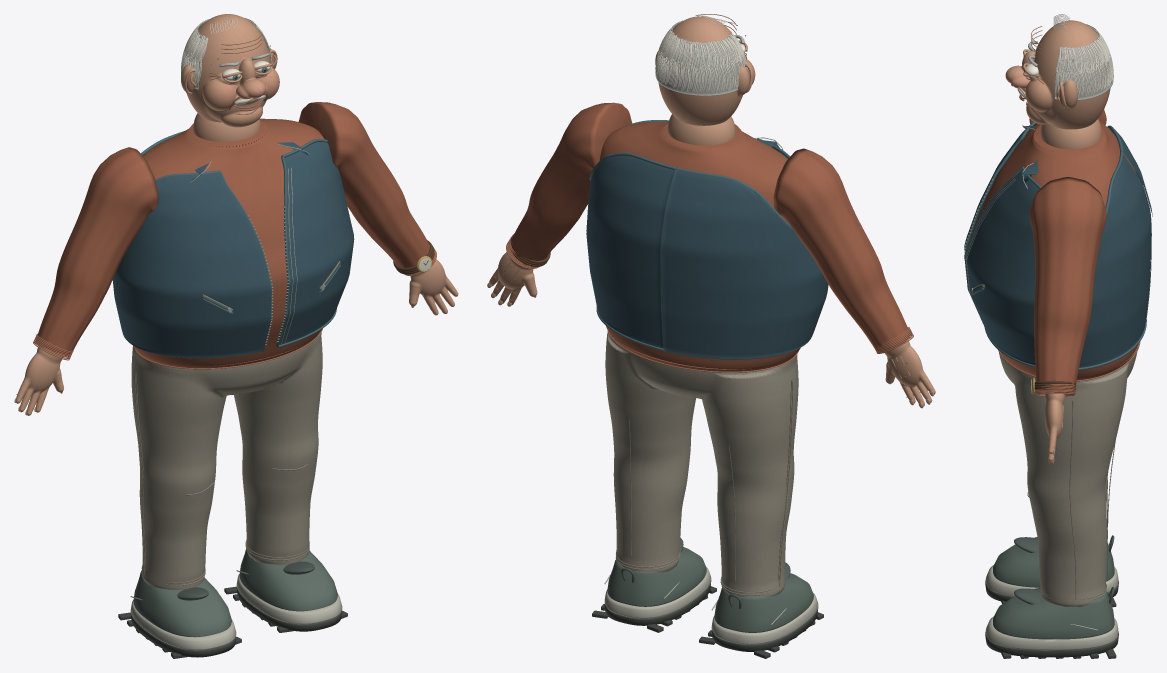
3 views of the same model, side by side, from view 1: azimuth 30°, elevation 25°; view 2: azimuth 150°, elevation 25°; view 3: azimuth 270°, elevation 25° (orthographic).
Parts seen in each view (by area): view 1: 04 | Vest | firm slate blue cotton details, Stone trousers | coherent seat and separate legs, 03 | Sweater | brushed rust wool details, 06 | Walking shoes | olive suede details, Otto | integrated face and bald scalp, 06 | Walking shoes | warm grey midsole details, 06 | Walking shoes | dark outsole details, Sculpted hand R, 04 | Vest | bound blue edges details, 01 | Skin | warm aged complexion details, Sculpted hand L, 02 | Hair | warm silver white details (+4 smaller); view 2: 04 | Vest | firm slate blue cotton details, Stone trousers | coherent seat and separate legs, 03 | Sweater | brushed rust wool details, 06 | Walking shoes | olive suede details, 02 | Hair | warm silver white details, Otto | integrated face and bald scalp, 06 | Walking shoes | warm grey midsole details, 02 | Hair | underlayer details, 06 | Walking shoes | dark outsole details, Sculpted hand R, 01 | Skin | warm aged complexion details, Sculpted hand L (+4 smaller); view 3: 04 | Vest | firm slate blue cotton details, 03 | Sweater | brushed rust wool details, Stone trousers | coherent seat and separate legs, 06 | Walking shoes | olive suede details, Otto | integrated face and bald scalp, 02 | Hair | warm silver white details, 06 | Walking shoes | warm grey midsole details, 04 | Vest | bound blue edges details, 06 | Walking shoes | dark outsole details, 01 | Skin | warm aged complexion details, 02 | Hair | underlayer details, Sculpted hand L (+6 smaller).
Boxes of the visible parts, bbox=[...] form: 04 | Vest | firm slate blue cotton details: bbox=[112, 142, 354, 358]; Stone trousers | coherent seat and separate legs: bbox=[131, 331, 322, 589]; 03 | Sweater | brushed rust wool details: bbox=[35, 102, 429, 368]; 06 | Walking shoes | olive suede details: bbox=[133, 549, 337, 637]; Otto | integrated face and bald scalp: bbox=[181, 14, 279, 127]; 06 | Walking shoes | warm grey midsole details: bbox=[130, 574, 342, 650]; 06 | Walking shoes | dark outsole details: bbox=[118, 586, 347, 658]; Sculpted hand R: bbox=[15, 346, 63, 415]; 04 | Vest | bound blue edges details: bbox=[141, 131, 340, 358]; 01 | Skin | warm aged complexion details: bbox=[184, 49, 277, 141]; Sculpted hand L: bbox=[409, 259, 458, 315]; 02 | Hair | warm silver white details: bbox=[181, 18, 272, 105]; 04 | Vest | firm slate blue cotton details: bbox=[586, 121, 828, 359]; Stone trousers | coherent seat and separate legs: bbox=[605, 332, 798, 596]; 03 | Sweater | brushed rust wool details: bbox=[511, 102, 910, 371]; 06 | Walking shoes | olive suede details: bbox=[607, 547, 813, 632]; 02 | Hair | warm silver white details: bbox=[655, 15, 747, 94]; Otto | integrated face and bald scalp: bbox=[655, 16, 755, 125]; 06 | Walking shoes | warm grey midsole details: bbox=[604, 567, 818, 644]; 02 | Hair | underlayer details: bbox=[655, 20, 744, 95]; 06 | Walking shoes | dark outsole details: bbox=[592, 581, 823, 658]; Sculpted hand R: bbox=[884, 340, 935, 406]; 01 | Skin | warm aged complexion details: bbox=[502, 40, 910, 378]; Sculpted hand L: bbox=[489, 252, 537, 304]; 04 | Vest | firm slate blue cotton details: bbox=[964, 123, 1152, 367]; 03 | Sweater | brushed rust wool details: bbox=[970, 109, 1138, 395]; Stone trousers | coherent seat and separate legs: bbox=[999, 349, 1137, 606]; 06 | Walking shoes | olive suede details: bbox=[993, 537, 1114, 639]; Otto | integrated face and bald scalp: bbox=[1005, 20, 1110, 129]; 02 | Hair | warm silver white details: bbox=[1017, 14, 1113, 98]; 06 | Walking shoes | warm grey midsole details: bbox=[985, 565, 1118, 650]; 04 | Vest | bound blue edges details: bbox=[964, 122, 1151, 370]; 06 | Walking shoes | dark outsole details: bbox=[985, 580, 1118, 658]; 01 | Skin | warm aged complexion details: bbox=[1017, 49, 1101, 427]; 02 | Hair | underlayer details: bbox=[1019, 24, 1113, 100]; Sculpted hand L: bbox=[1044, 392, 1064, 463].
Size of the model in its own units: 1.28 by 1.64 by 0.4739.
